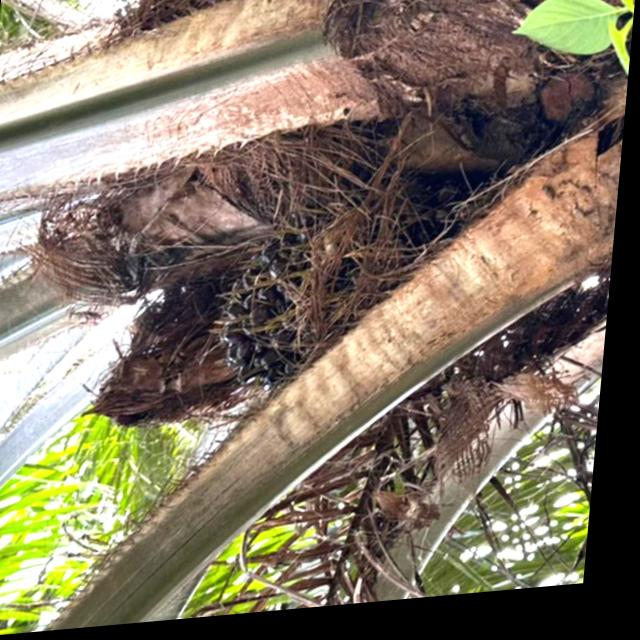unripe: (207, 125, 516, 411)
